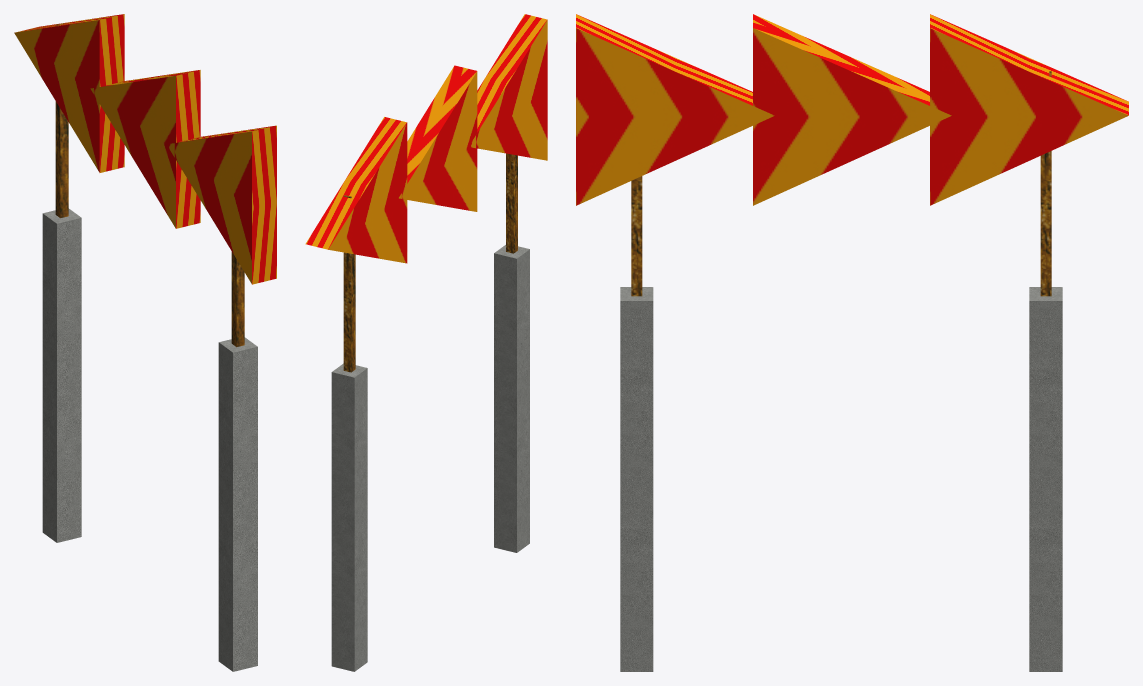
Rendered from triplearrowsign.glb.
The picture shows the model from 3 angles, left to right: view 1: azimuth 30°, elevation 25°; view 2: azimuth 150°, elevation 25°; view 3: azimuth 270°, elevation 25°; orthographic projection. The views are drawn at different scales.
Visible parts, largest first — view 1: triplearrowsign; view 2: triplearrowsign; view 3: triplearrowsign.
Boxes of the visible parts, <box> form: triplearrowsign: <box>14,14,276,671</box>; triplearrowsign: <box>305,14,547,671</box>; triplearrowsign: <box>576,14,1128,671</box>.
Bounding box in the file's own units: 0.75 × 16.06 × 12.5.
Materials: 3 (3 with a texture image).
